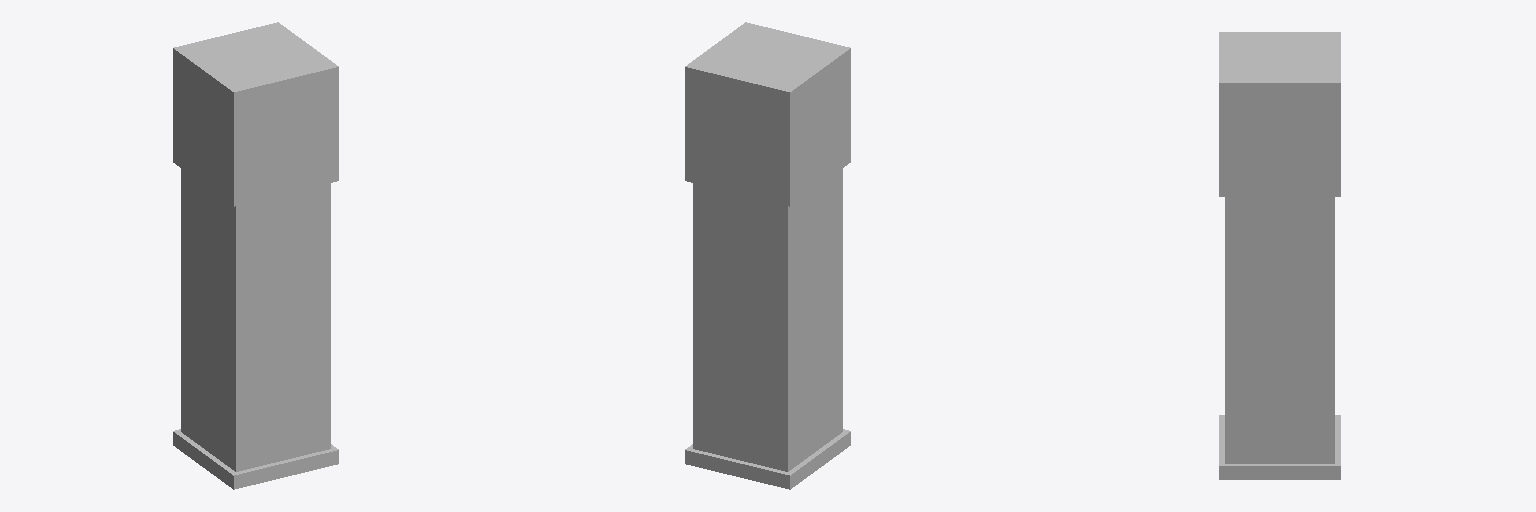
The model's file is friend.obj.
3 renders of one model, left to right at view 1: azimuth 30°, elevation 25°; view 2: azimuth 150°, elevation 25°; view 3: azimuth 270°, elevation 25°, orthographic.
Parts seen in each view (by area): view 1: Cube; view 2: Cube; view 3: Cube.
Boxes of the visible parts, <box> form: Cube: <box>173,22,338,489</box>; Cube: <box>685,22,850,489</box>; Cube: <box>1219,32,1340,479</box>.
Size of the model in its own units: 0.5 by 1.8 by 0.5.